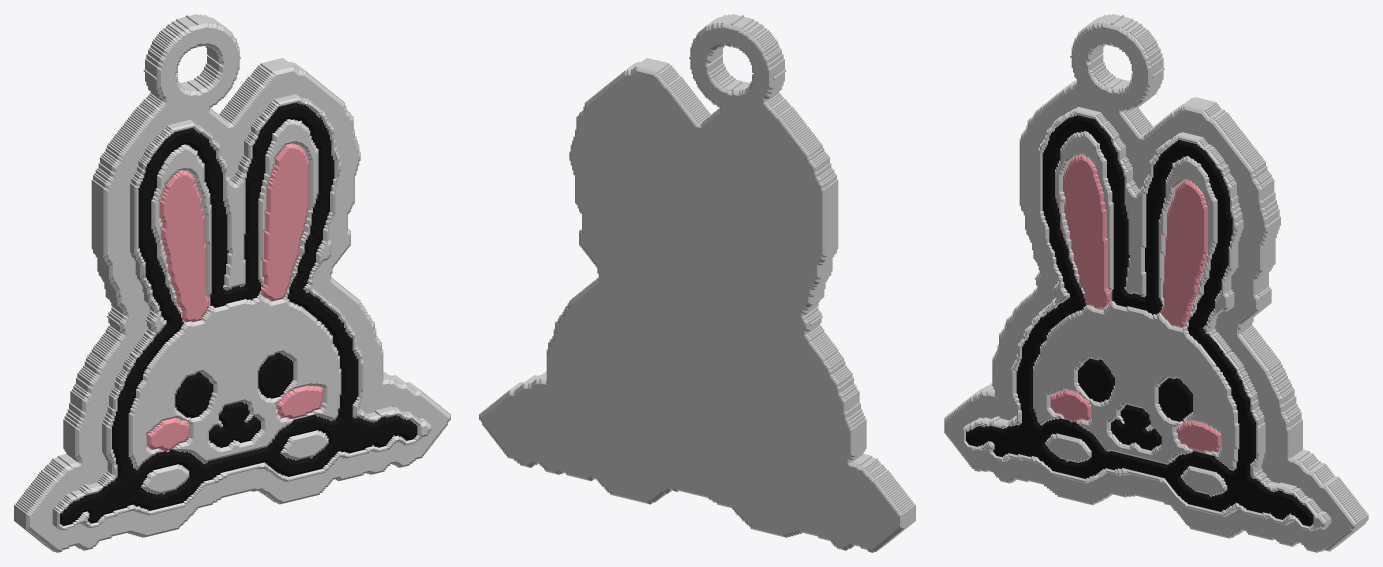
File: bunny_middle_multicolour.obj
3 views of the same model, side by side, from view 1: azimuth 30°, elevation 25°; view 2: azimuth 150°, elevation 25°; view 3: azimuth 330°, elevation 25° (orthographic). The views are drawn at different scales.
Parts seen in each view (by area): view 1: part_1_base_white, part_11_black_details, part_3_base_white, part_2_base_white, part_15_pink_details, part_16_pink_details, part_4_base_white, part_14_black_details, part_12_black_details, part_13_black_details, part_18_pink_details, part_17_pink_details (+2 smaller); view 2: part_1_base_white; view 3: part_1_base_white, part_11_black_details, part_3_base_white, part_2_base_white, part_15_pink_details, part_16_pink_details, part_4_base_white, part_14_black_details, part_12_black_details, part_13_black_details, part_18_pink_details, part_17_pink_details (+2 smaller).
Part boxes in pixels (<box>): part_1_base_white: <box>14,14,450,552</box>; part_11_black_details: <box>60,102,417,525</box>; part_3_base_white: <box>128,144,341,469</box>; part_2_base_white: <box>52,94,431,530</box>; part_15_pink_details: <box>159,170,208,322</box>; part_16_pink_details: <box>261,143,308,301</box>; part_4_base_white: <box>258,119,318,284</box>; part_14_black_details: <box>209,401,260,447</box>; part_12_black_details: <box>175,372,213,418</box>; part_13_black_details: <box>258,352,293,398</box>; part_18_pink_details: <box>276,385,322,419</box>; part_17_pink_details: <box>147,417,189,451</box>; part_1_base_white: <box>479,14,915,552</box>; part_1_base_white: <box>944,14,1368,552</box>; part_11_black_details: <box>966,115,1313,526</box>; part_3_base_white: <box>1033,131,1239,470</box>; part_2_base_white: <box>963,107,1331,531</box>; part_15_pink_details: <box>1063,154,1110,310</box>; part_16_pink_details: <box>1161,180,1207,327</box>; part_4_base_white: <box>1158,156,1217,317</box>; part_14_black_details: <box>1111,404,1161,450</box>; part_12_black_details: <box>1078,358,1114,402</box>; part_13_black_details: <box>1158,377,1192,421</box>; part_18_pink_details: <box>1176,420,1221,452</box>; part_17_pink_details: <box>1050,389,1091,421</box>.
Size of the model in its own units: 50.33 by 56.67 by 4.2.
